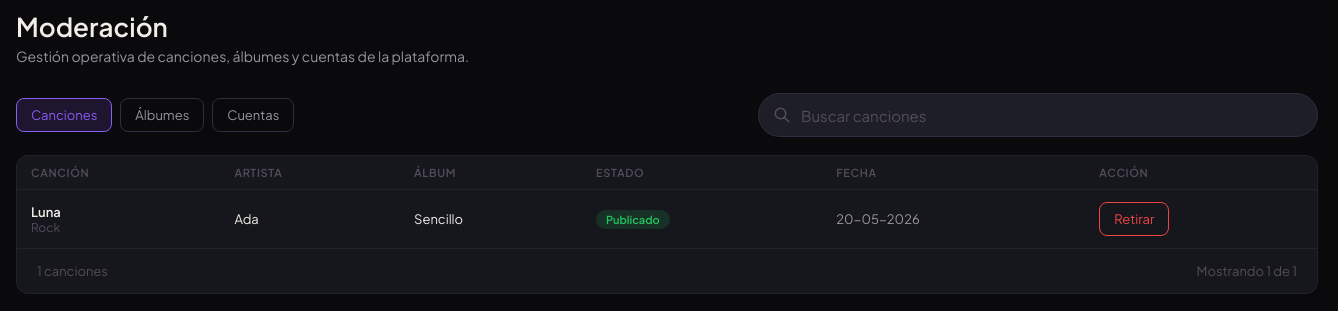
AdminPages › routes album searches to the album moderation endpoint
Click the button "Álbumes" at (162, 115), box [120,98,204,132]
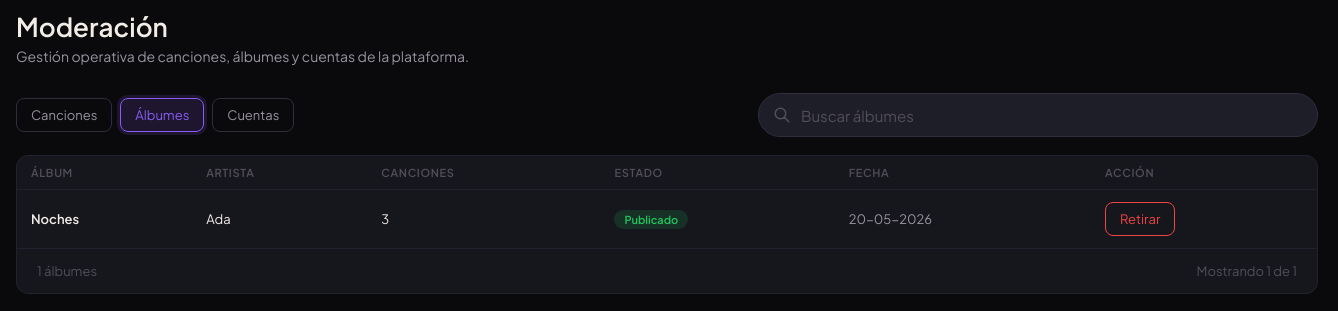
Check: the text "Noches" is shown, box [31,211,79,227]
Type "ta" into the field with placeholder "Buscar álbumes" at (1038, 115), box [758,93,1318,137]
Then press Enter
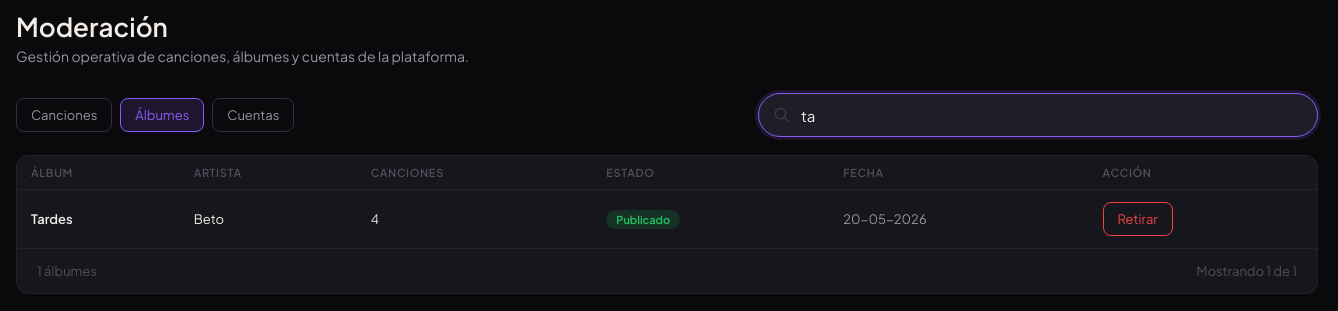
Check: the text "Tardes" is shown, box [31,211,73,227]
